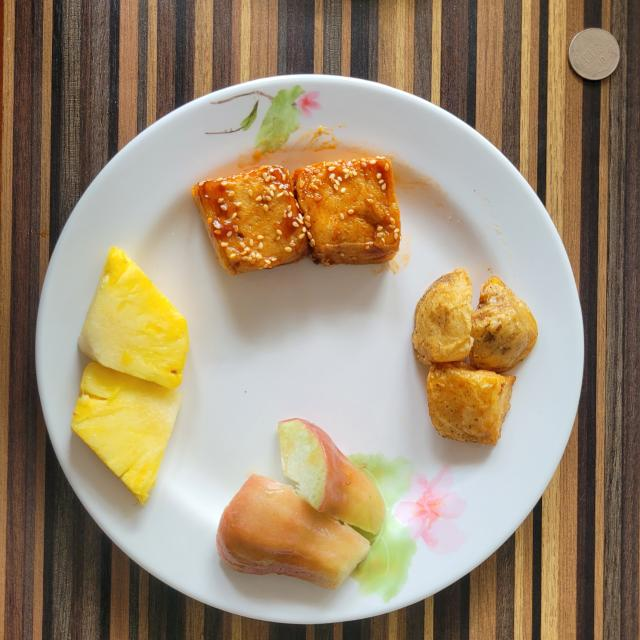coin: (569, 28, 620, 80)
creamy tofu: (191, 158, 400, 274)
fried potato: (412, 269, 538, 445)
pineapple: (71, 248, 189, 504)
